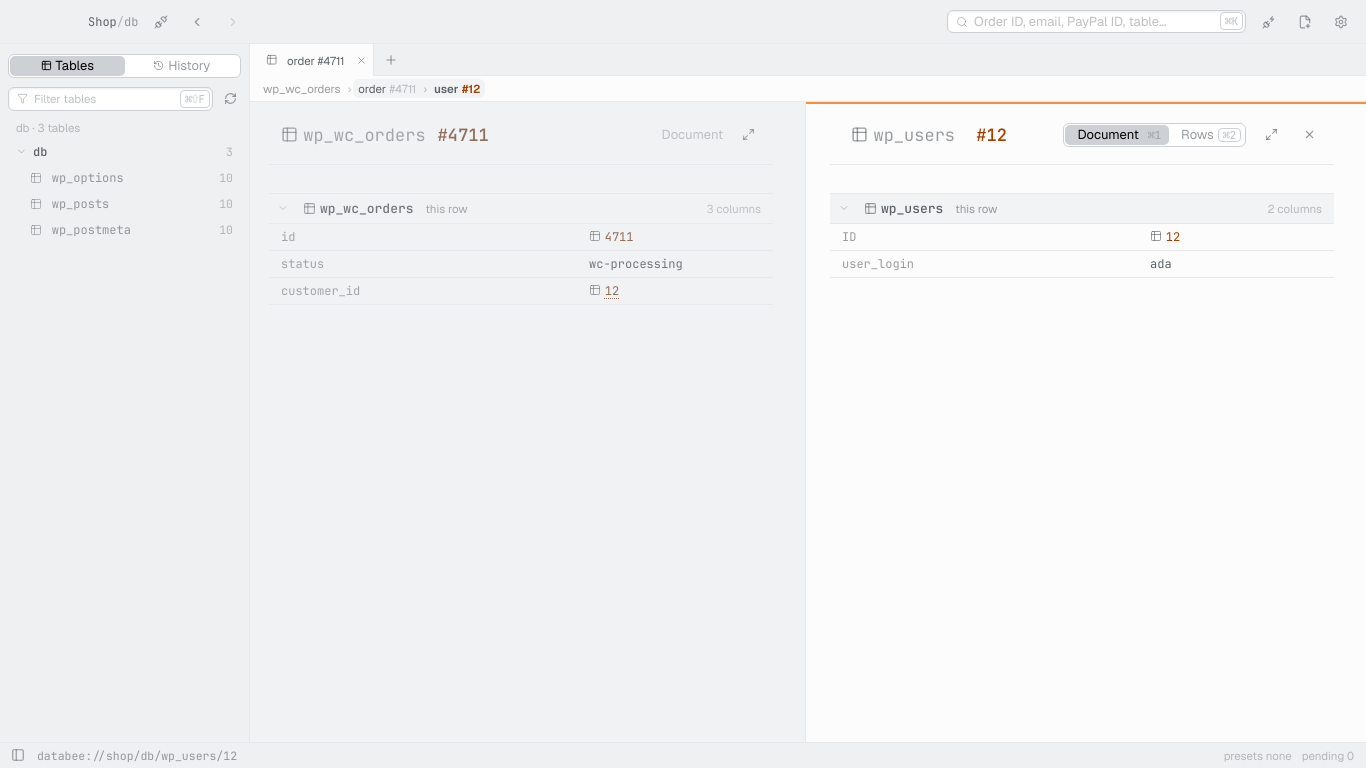
Test: column stack › column headers › closes a drilled column with its Close column button
Expected: the element showing "db 3 wp_options 10 wp_posts 10 wp_postmeta 10" is shown, 16,144 -> 233,238
Expected: the element named "Object header" is shown, 269,102 -> 773,165
Click the button named "Close column": (1309, 135) 1296,122 -> 1322,148
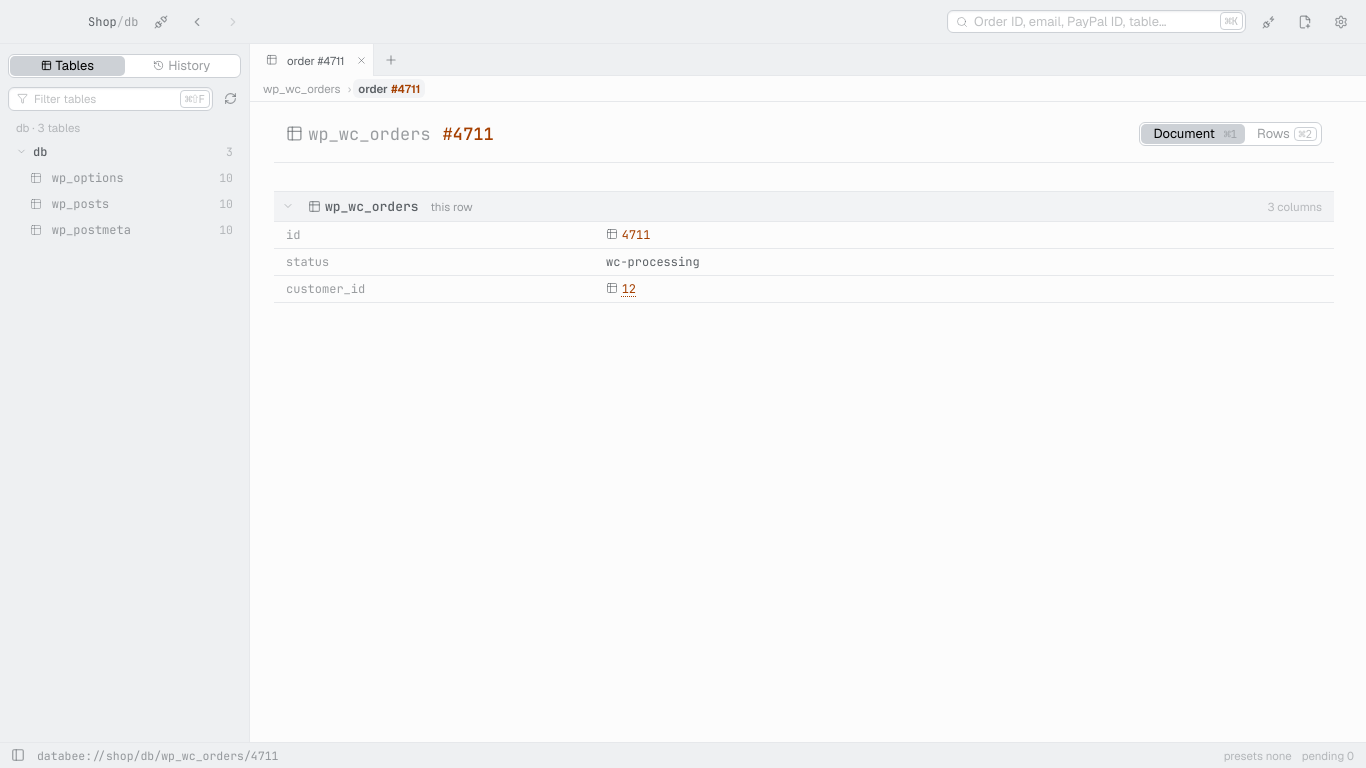
Result: the element "wp_users #12" is gone
